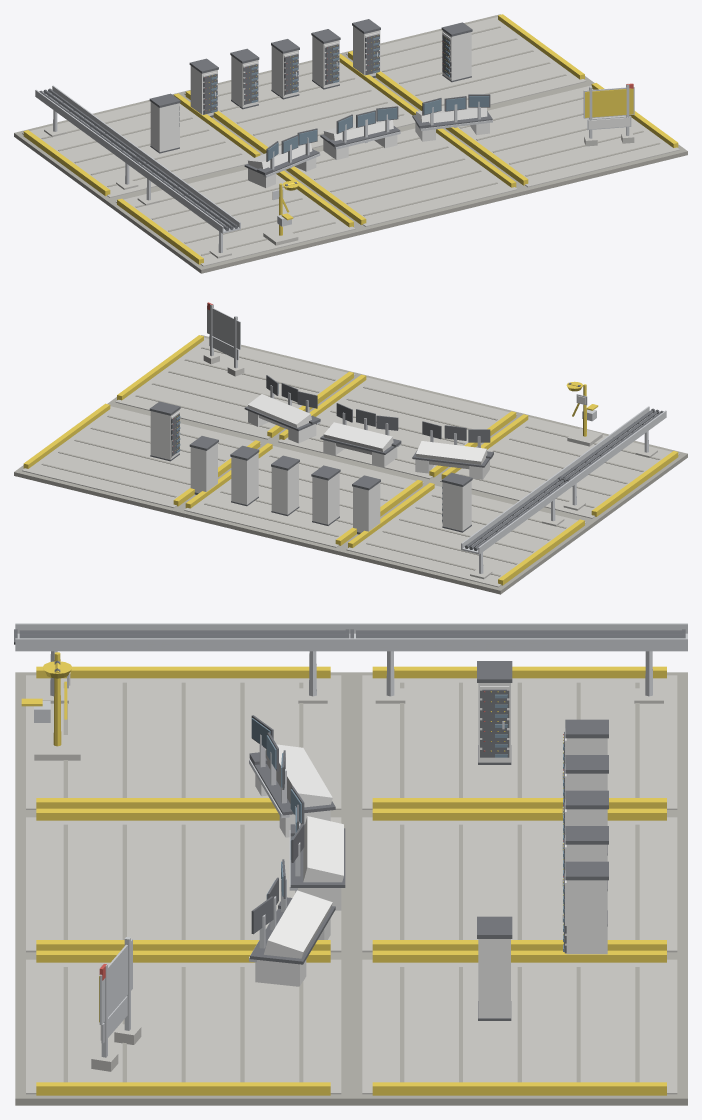
File: rocket-launch-pad-and-gantry-firing-room-console-bay-555a9a7c__38217.glb
3 renders of one model, top to bottom at view 1: azimuth 30°, elevation 25°; view 2: azimuth 150°, elevation 25°; view 3: azimuth 270°, elevation 25°, orthographic. The views are drawn at different scales.
Visible parts, largest first — view 1: 003-hardstand-module/1, 005-hardstand-module/1, 004-hardstand-module/1, 001-hardstand-module/1, 000-hardstand-module/1, 002-hardstand-module/1, 001-hardstand-module/0, 005-hardstand-module/0, 003-hardstand-module/0, 000-hardstand-module/0, 004-hardstand-module/0, 017-cable-tray-run/0 (+41 smaller); view 2: 004-hardstand-module/1, 005-hardstand-module/1, 000-hardstand-module/1, 001-hardstand-module/1, 003-hardstand-module/1, 002-hardstand-module/1, 000-hardstand-module/0, 004-hardstand-module/0, 002-hardstand-module/0, 001-hardstand-module/0, 005-hardstand-module/0, 003-hardstand-module/0 (+24 smaller); view 3: 004-hardstand-module/1, 005-hardstand-module/1, 002-hardstand-module/1, 001-hardstand-module/1, 000-hardstand-module/1, 003-hardstand-module/1, 004-hardstand-module/0, 005-hardstand-module/0, 016-cable-tray-run/0, 017-cable-tray-run/0, 004-hardstand-module/2, 005-hardstand-module/2 (+34 smaller).
Boxes of the visible parts, bbox=[...] form: 003-hardstand-module/1: bbox=[295, 128, 517, 226]; 005-hardstand-module/1: bbox=[457, 85, 679, 187]; 004-hardstand-module/1: bbox=[346, 17, 586, 108]; 001-hardstand-module/1: bbox=[115, 169, 355, 266]; 000-hardstand-module/1: bbox=[22, 101, 253, 197]; 002-hardstand-module/1: bbox=[184, 62, 415, 148]; 001-hardstand-module/0: bbox=[107, 167, 363, 273]; 005-hardstand-module/0: bbox=[443, 82, 687, 194]; 003-hardstand-module/0: bbox=[284, 126, 525, 233]; 000-hardstand-module/0: bbox=[14, 93, 245, 204]; 004-hardstand-module/0: bbox=[339, 14, 593, 110]; 017-cable-tray-run/0: bbox=[129, 154, 240, 252]; 004-hardstand-module/1: bbox=[22, 406, 261, 507]; 005-hardstand-module/1: bbox=[115, 337, 355, 439]; 000-hardstand-module/1: bbox=[346, 485, 586, 587]; 001-hardstand-module/1: bbox=[440, 417, 679, 518]; 003-hardstand-module/1: bbox=[278, 377, 517, 479]; 002-hardstand-module/1: bbox=[184, 446, 423, 547]; 000-hardstand-module/0: bbox=[338, 482, 594, 594]; 004-hardstand-module/0: bbox=[14, 403, 269, 515]; 002-hardstand-module/0: bbox=[176, 443, 431, 554]; 001-hardstand-module/0: bbox=[432, 414, 687, 525]; 005-hardstand-module/0: bbox=[108, 335, 362, 442]; 003-hardstand-module/0: bbox=[270, 374, 525, 482]; 004-hardstand-module/1: bbox=[362, 959, 677, 1094]; 005-hardstand-module/1: bbox=[26, 959, 341, 1094]; 002-hardstand-module/1: bbox=[362, 817, 677, 952]; 001-hardstand-module/1: bbox=[26, 675, 341, 809]; 000-hardstand-module/1: bbox=[362, 675, 677, 809]; 003-hardstand-module/1: bbox=[26, 817, 341, 952]; 004-hardstand-module/0: bbox=[351, 956, 687, 1105]; 005-hardstand-module/0: bbox=[15, 956, 351, 1105]; 016-cable-tray-run/0: bbox=[351, 623, 687, 696]; 017-cable-tray-run/0: bbox=[15, 623, 351, 696]; 004-hardstand-module/2: bbox=[372, 950, 666, 1095]; 005-hardstand-module/2: bbox=[36, 950, 330, 1095].
Size of the model in its own units: 24 by 2.88 by 16.03.
